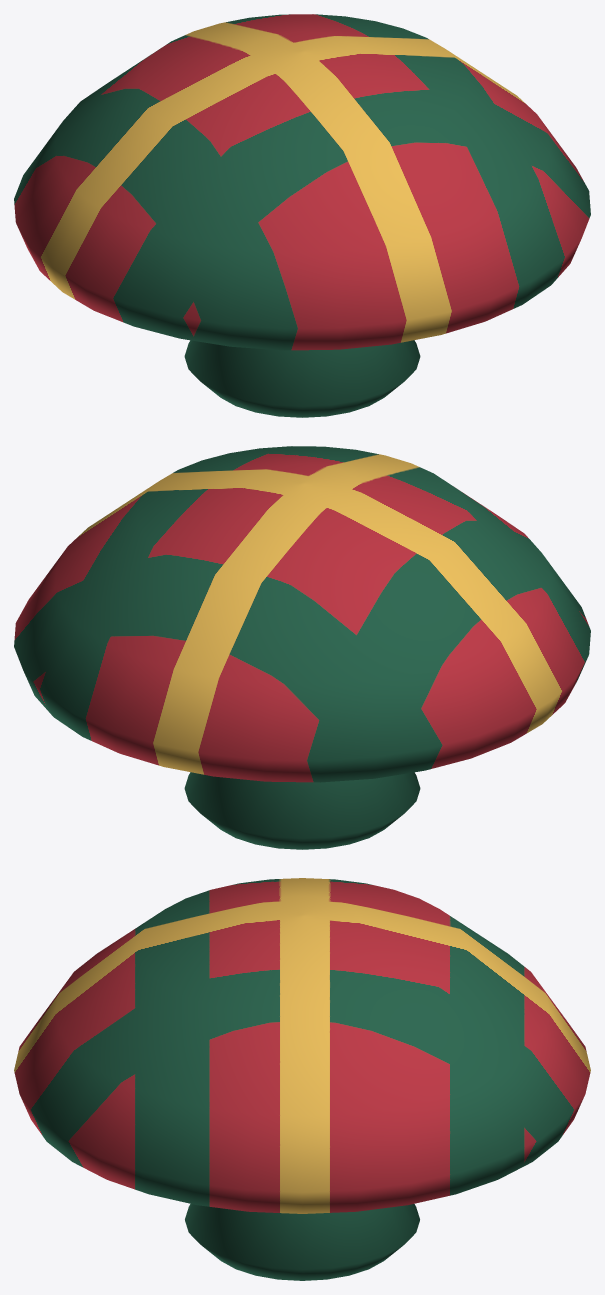
File: ACC_TH_MUSHROOM_GROVE_Primary.fbx
3 renders of one model, top to bottom at view 1: azimuth 30°, elevation 25°; view 2: azimuth 150°, elevation 25°; view 3: azimuth 270°, elevation 25°, orthographic.
Visible parts, largest first — view 1: ACC_TH_MUSHROOM_GROVE_Primary; view 2: ACC_TH_MUSHROOM_GROVE_Primary; view 3: ACC_TH_MUSHROOM_GROVE_Primary.
Part boxes in pixels (box(x1,y1,x2,y2)): ACC_TH_MUSHROOM_GROVE_Primary: box(14, 14, 590, 417); ACC_TH_MUSHROOM_GROVE_Primary: box(14, 446, 590, 849); ACC_TH_MUSHROOM_GROVE_Primary: box(14, 878, 590, 1280).
Size of the model in its own units: 98 by 61 by 98.
